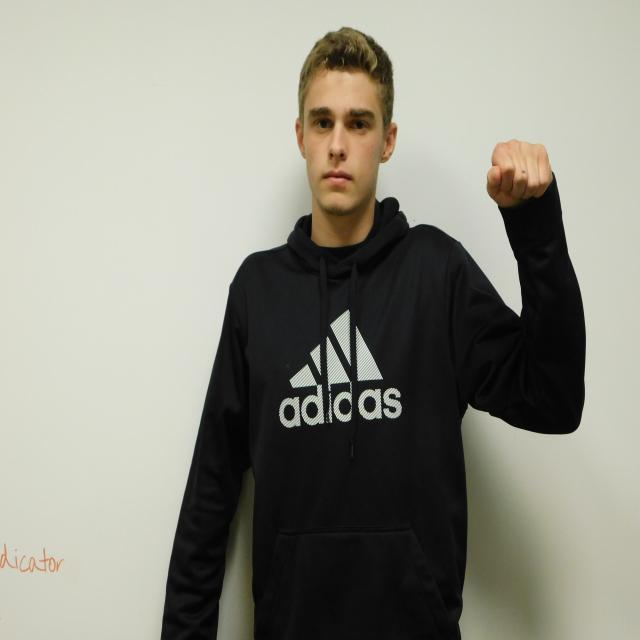yes: (487, 138, 553, 206)
